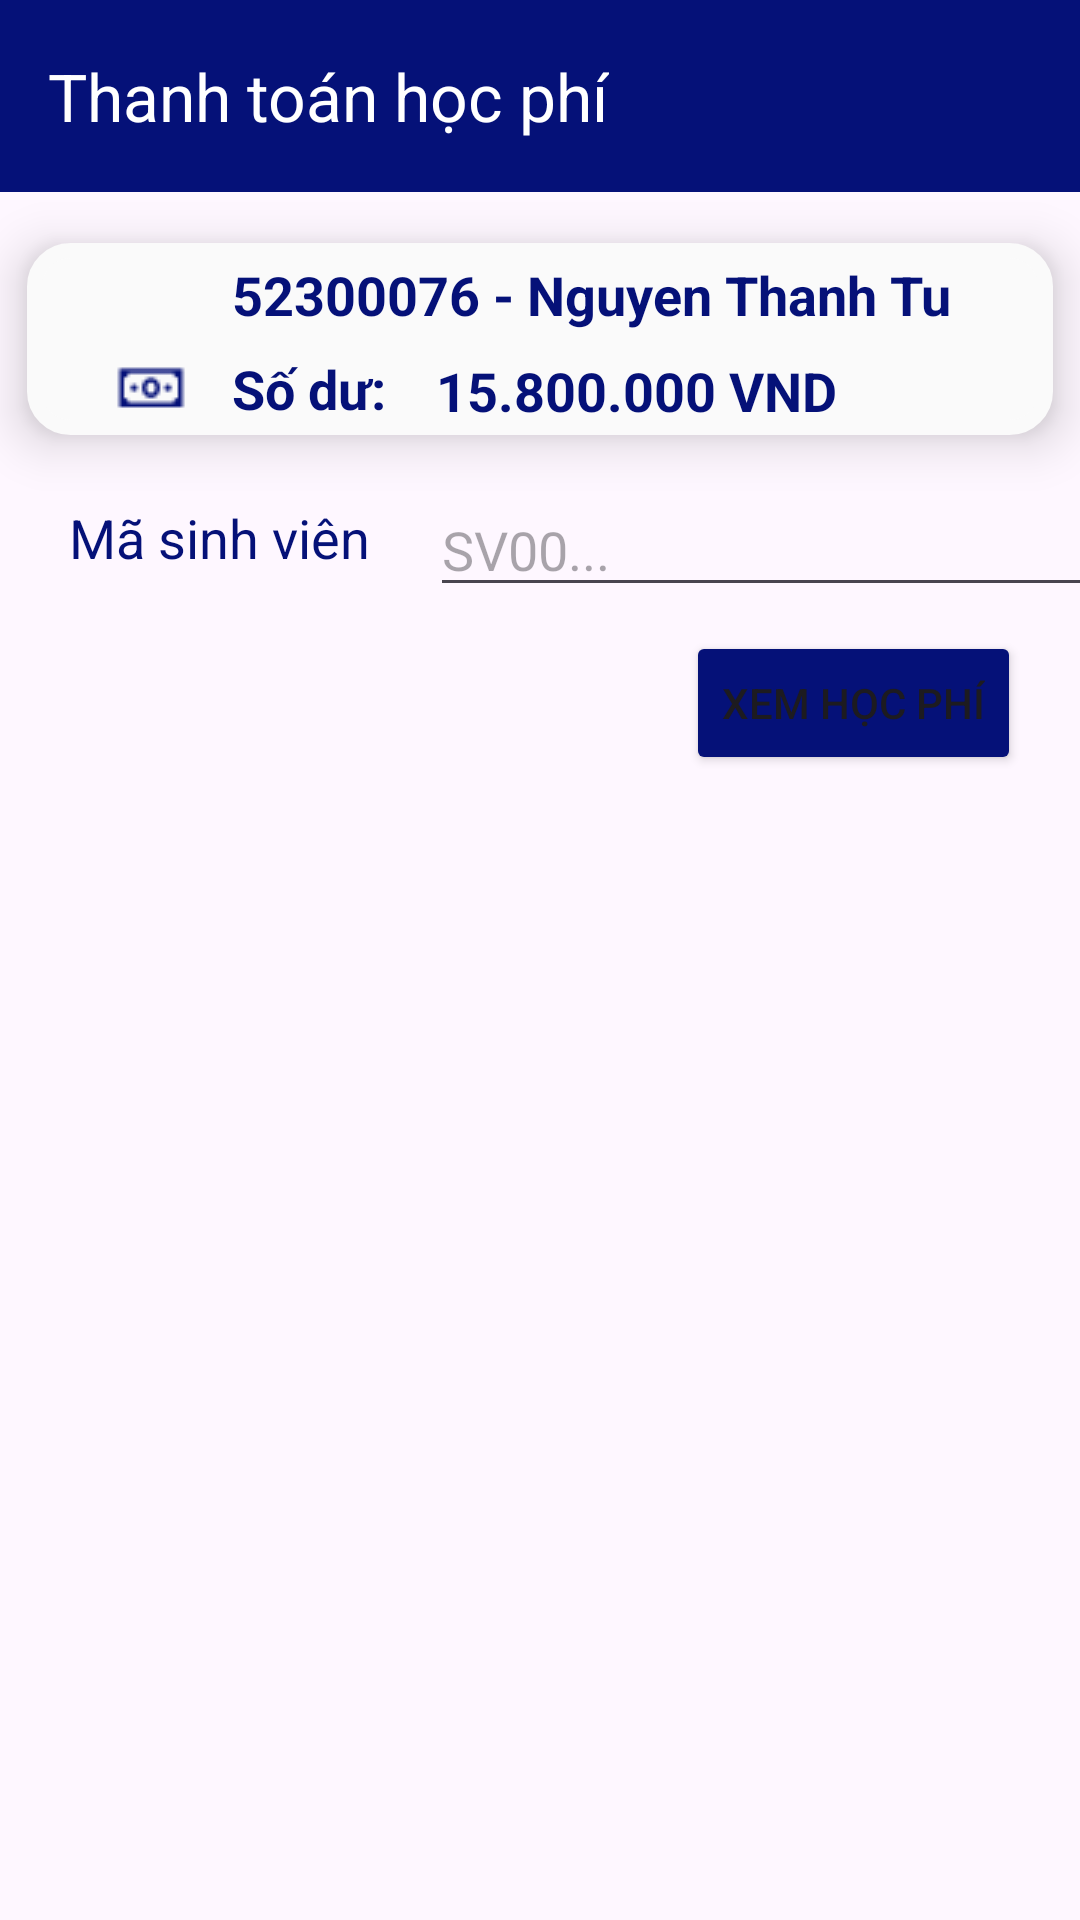

Icon bounding boxes for this 1080 × 1920 phone screenshot, format (x1=x1, y1=y1, x2=x2, y2=y2):
money: (x1=117, y1=367, x2=185, y2=408)
